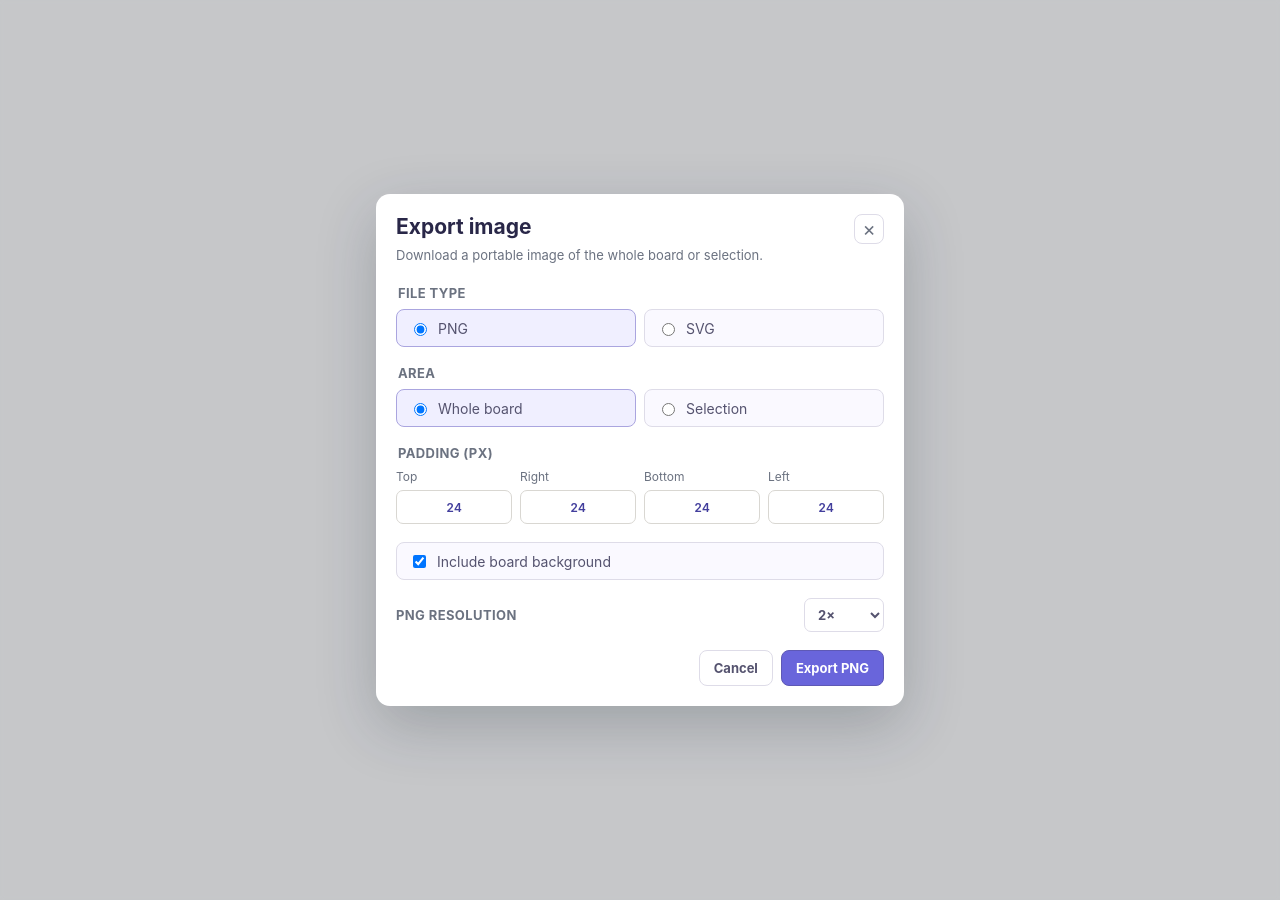
Scenario: ExportDialog › shows the same explanation when an available Selection option is focused
The width and height of the screenshot is (1280, 900).
Focus the radio button labelled "Selection": (668, 410) [662,403,675,416]
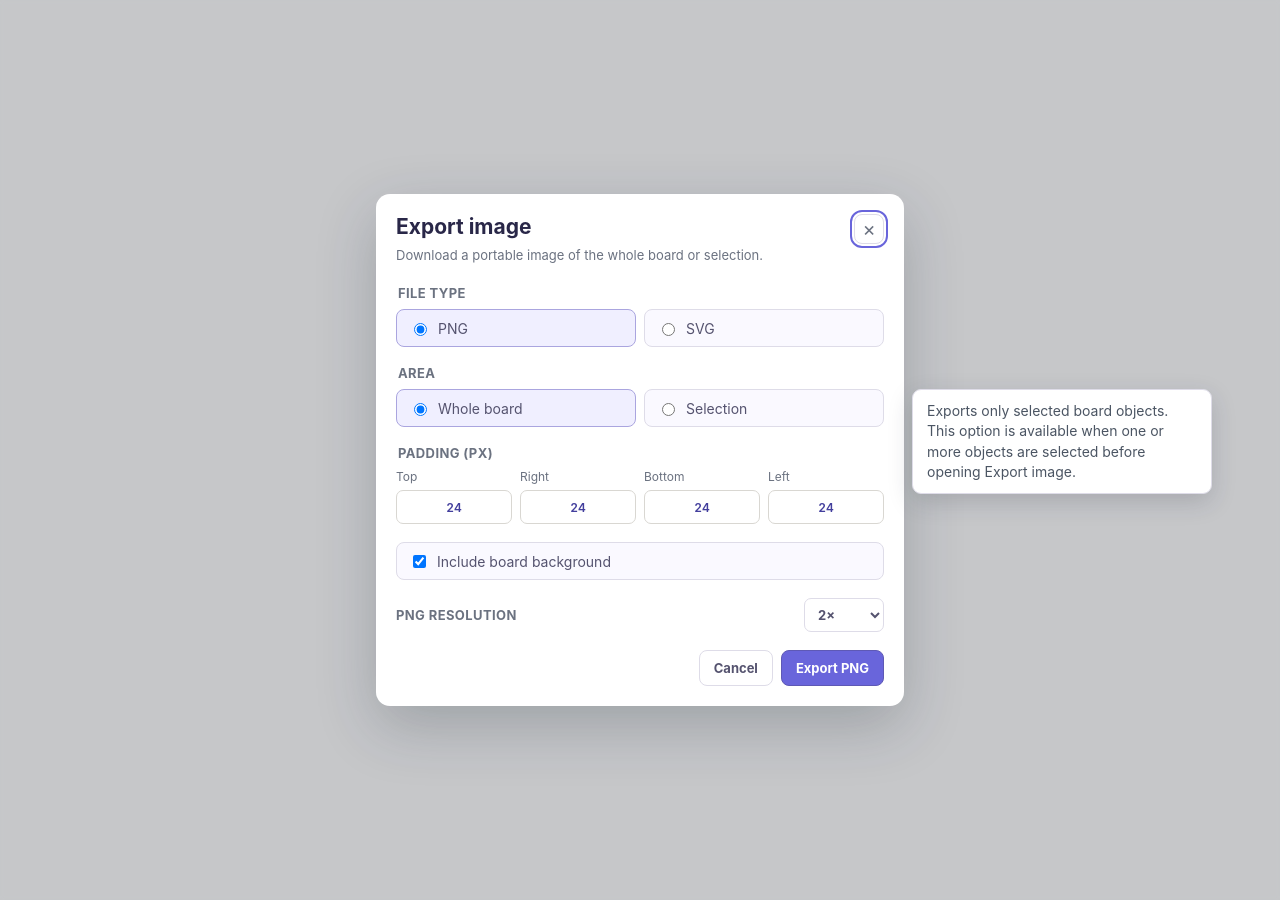
Expected: the text with class "export-option-tooltip" shows "Exports only selected board objects. This option is available when one or more objects are selected before opening Export image.", [927,402,1168,480]
